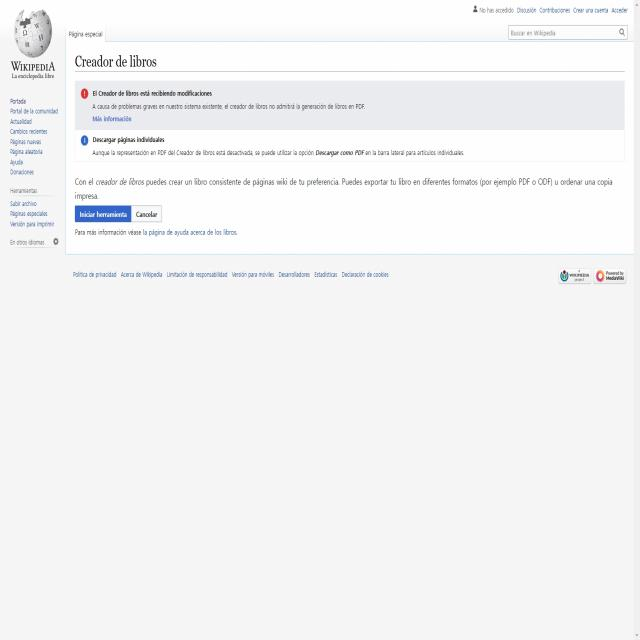menu-bar: (515, 3, 629, 16)
search: (507, 22, 629, 40)
side-panel: (4, 91, 63, 254)
